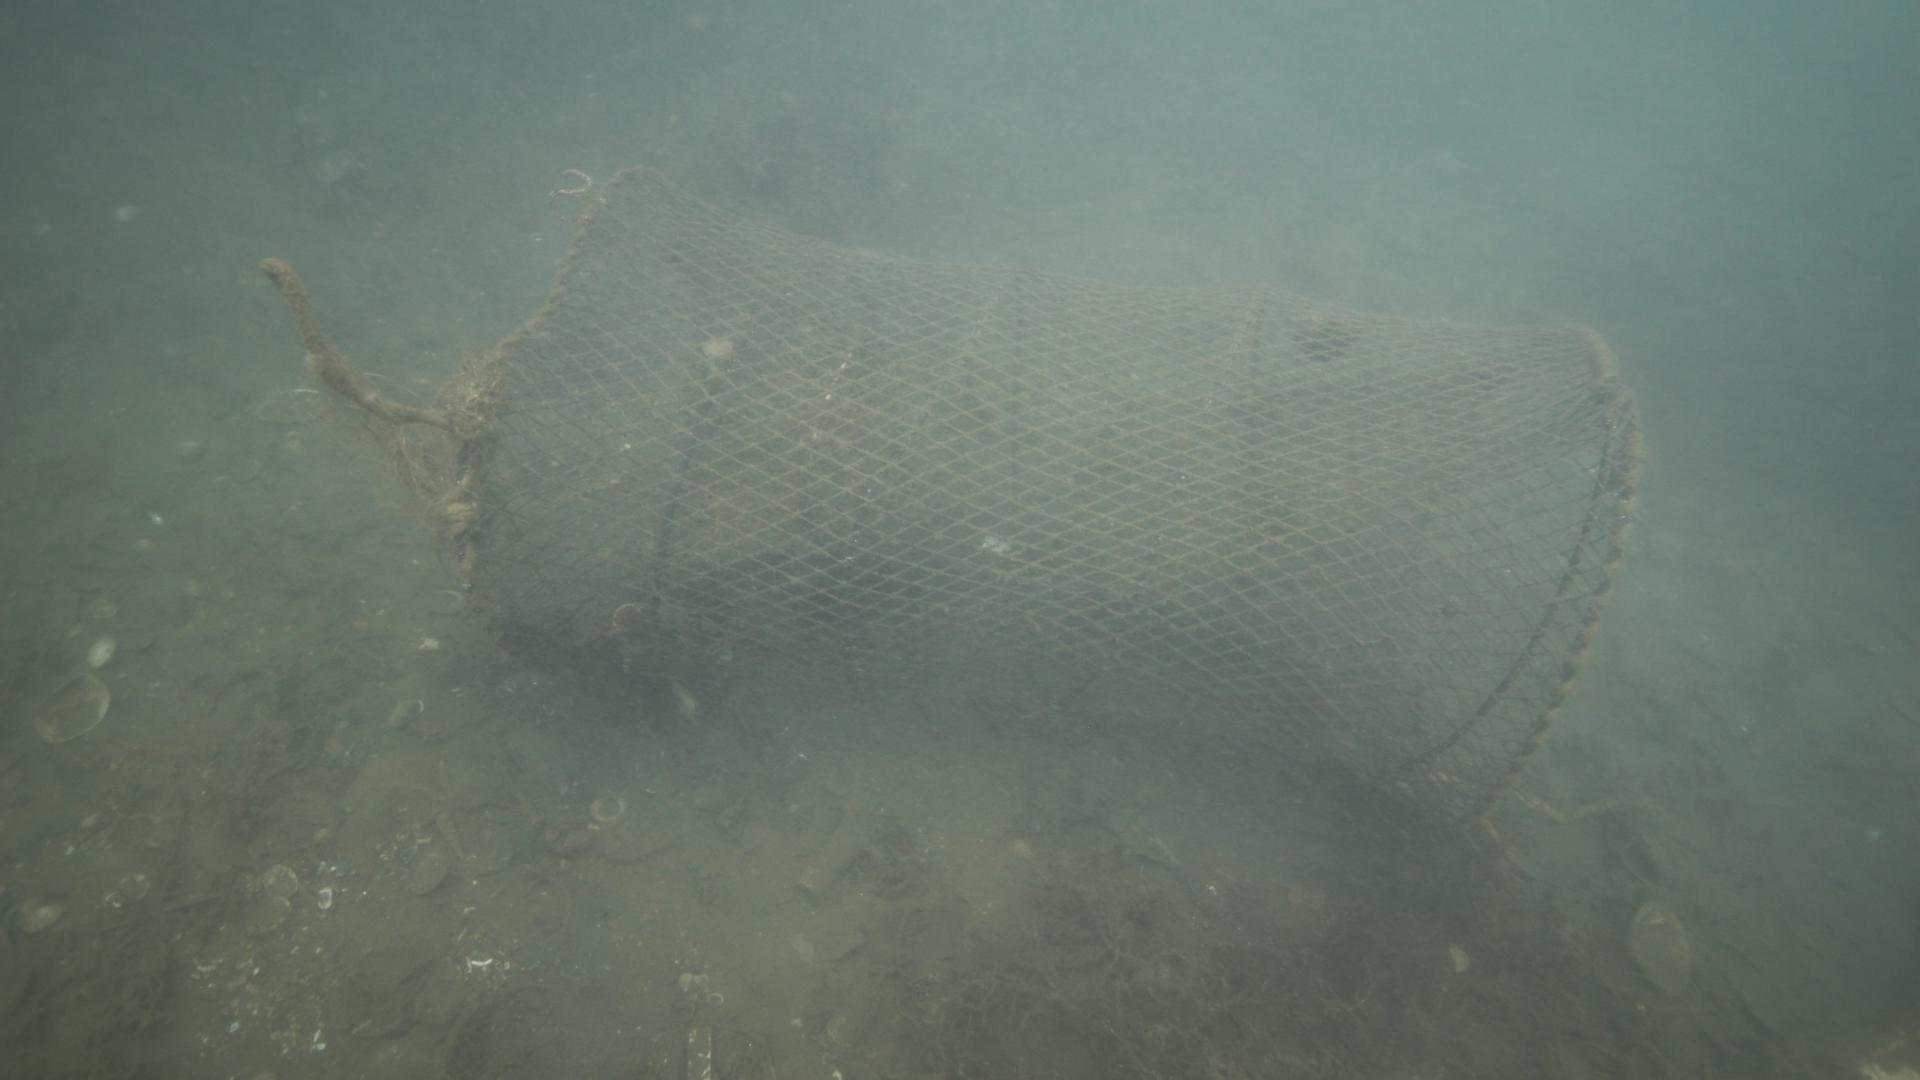bundle of ropes: (258, 255, 464, 426)
spring fish trap: (454, 164, 1638, 848)
